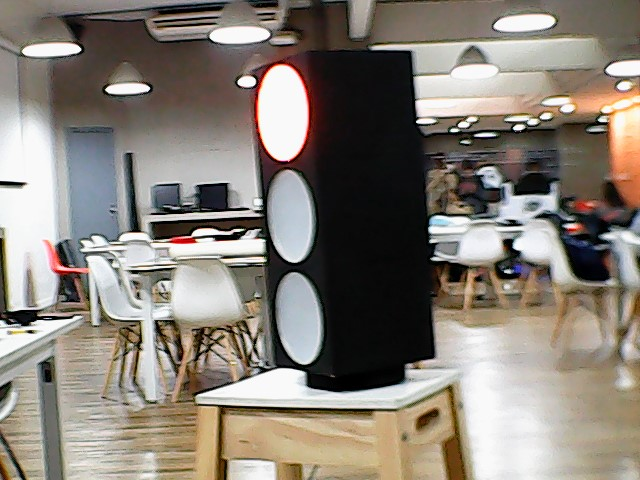vermelho: (244, 48, 441, 374)
